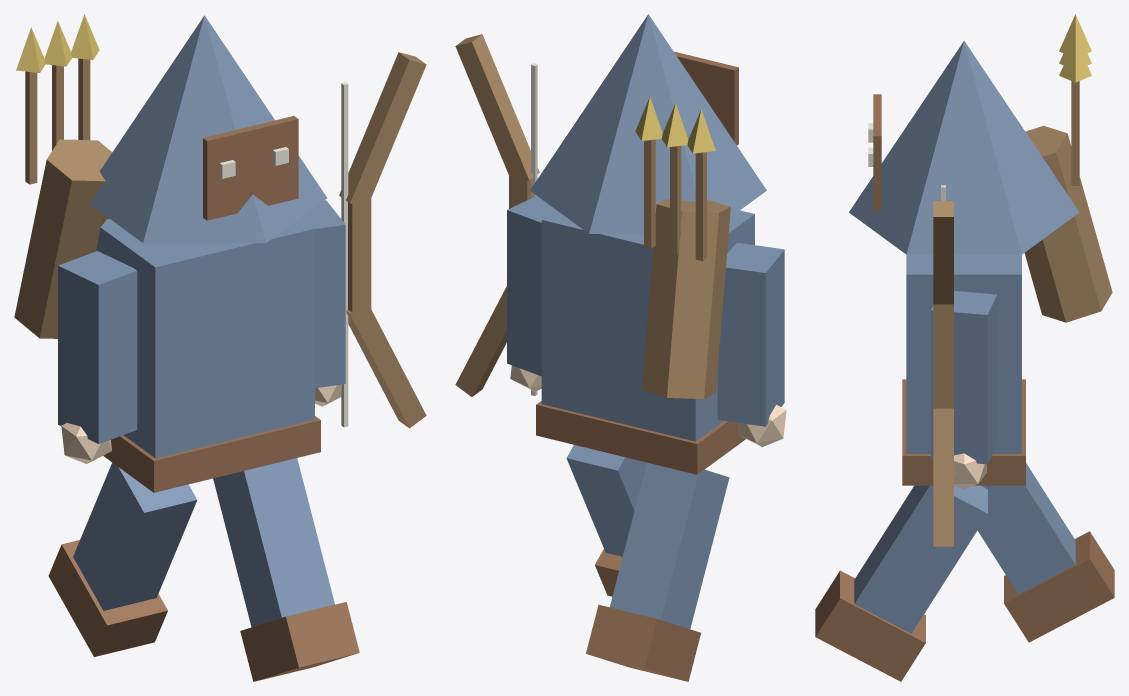
The model's file is npcpose_archer_walk_03.glb.
3 views of the same model, side by side, from view 1: azimuth 30°, elevation 25°; view 2: azimuth 150°, elevation 25°; view 3: azimuth 270°, elevation 25° (orthographic). The views are drawn at different scales.
Visible parts, largest first — view 1: npcpose; view 2: npcpose; view 3: npcpose.
Part boxes in pixels (x1,y1,x2,y2): npcpose: [14, 14, 426, 681]; npcpose: [455, 14, 786, 681]; npcpose: [815, 14, 1114, 681].
Size of the model in its own units: 0.9089 by 1.63 by 0.7256.
